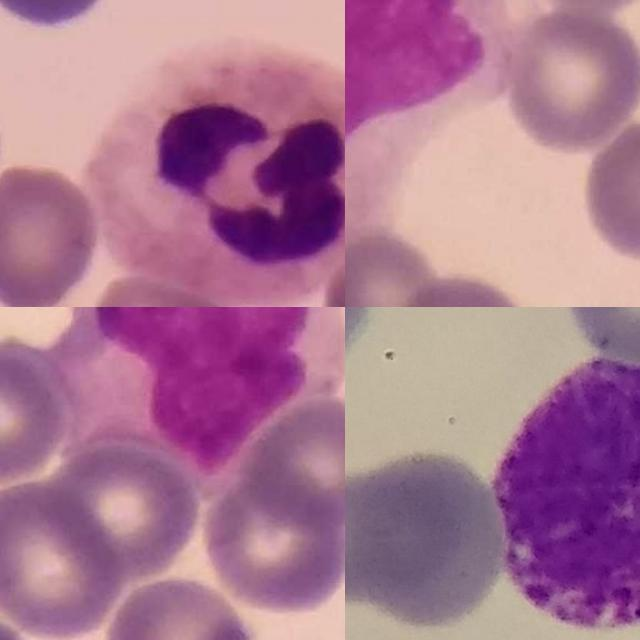Basophil: (493, 346, 640, 631)
Monocyte: (43, 307, 345, 472), (345, 0, 528, 248)
Neutrophil: (88, 42, 345, 307)
